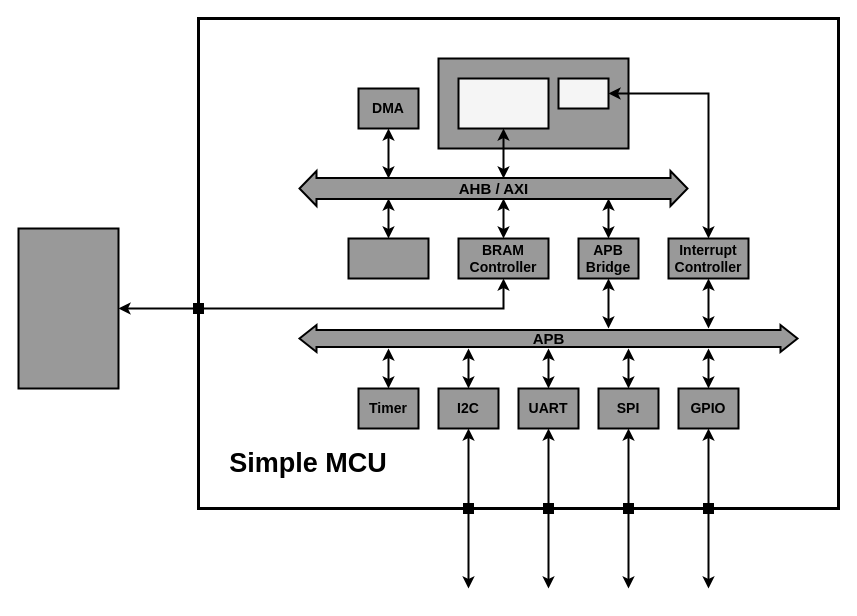
The diagram is 857 pixels wide and 616 high, and some of its shapes have lost their labels. Each missing label, with the centre of its shape:
"Boot ROM" goes at point (388, 258).
"BRAM" goes at point (68, 308).
"NVIC" goes at point (583, 93).
"RISC-V Core" goes at point (503, 103).
